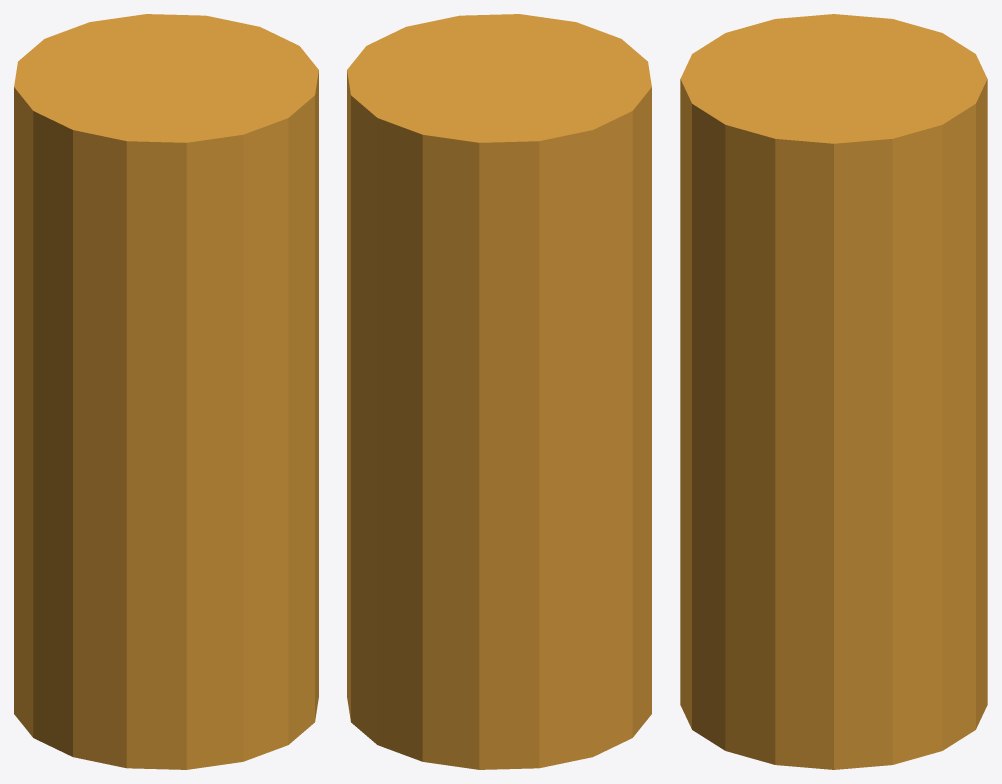
Rendered from Tree.glb.
3 views of the same model, side by side, from view 1: azimuth 30°, elevation 25°; view 2: azimuth 150°, elevation 25°; view 3: azimuth 270°, elevation 25° (orthographic).
Visible parts, largest first — view 1: Tree; view 2: Tree; view 3: Tree.
Part boxes in pixels (x1,y1,x2,y2): Tree: (14,14,318,769); Tree: (347,14,651,769); Tree: (680,14,987,769).
Bounding box in the file's own units: 20 × 45 × 20.
